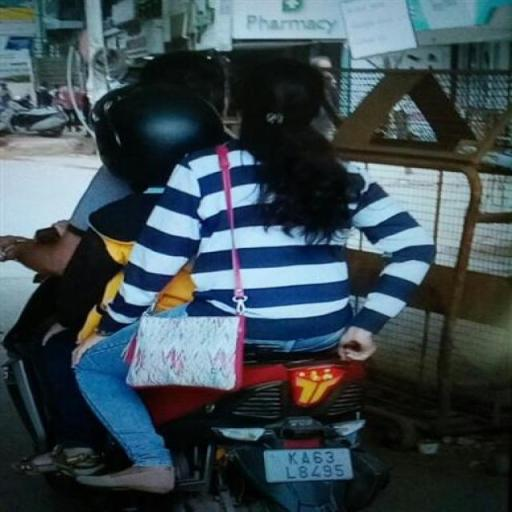tripple riding: (6, 42, 442, 352)
